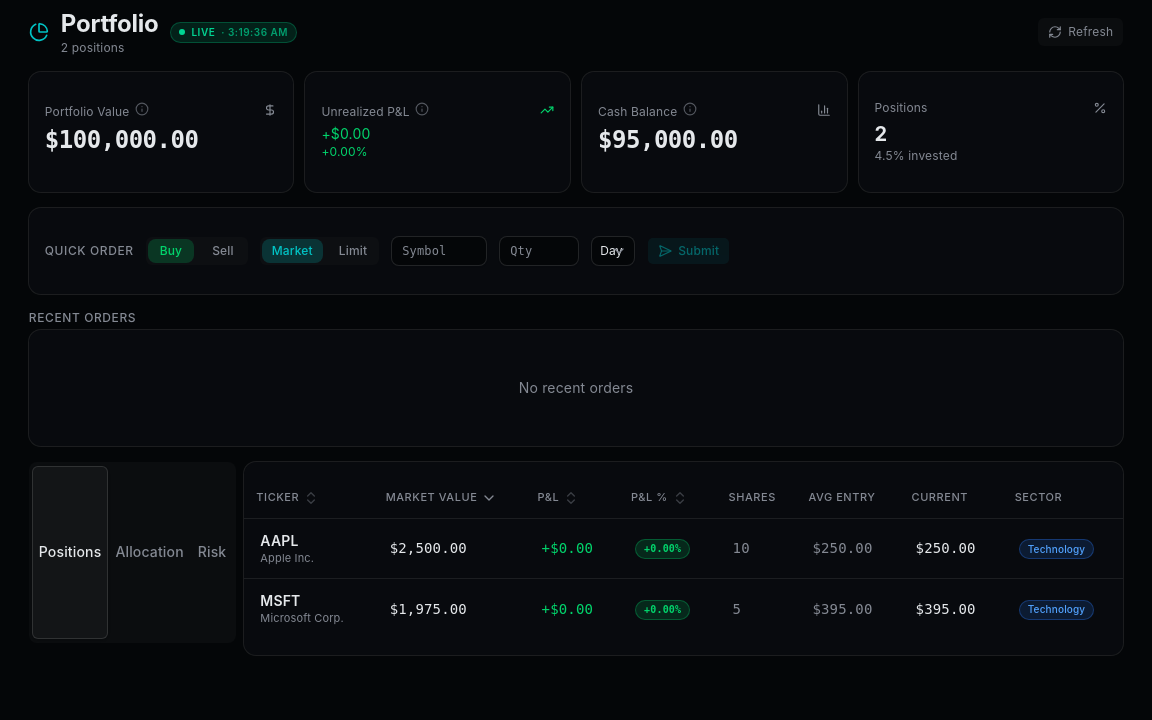
Test: PortfolioPage › displays server error guidance for 503
Check: the text "Quick Order" is shown, box [45,243,134,259]
Type "AAPL" into the field with placeholder "Symbol" at x=439, y=251, box [391,236,487,266]
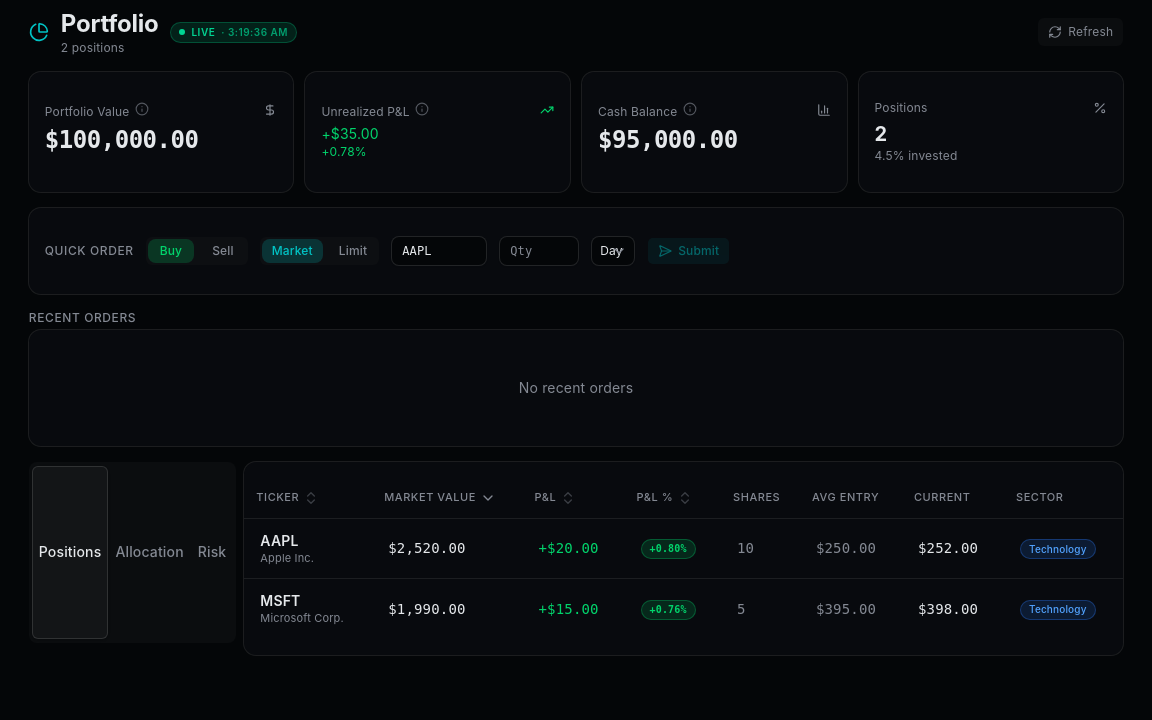
Type "10" into the number field with placeholder "Qty" at x=539, y=251, box [499,236,579,266]
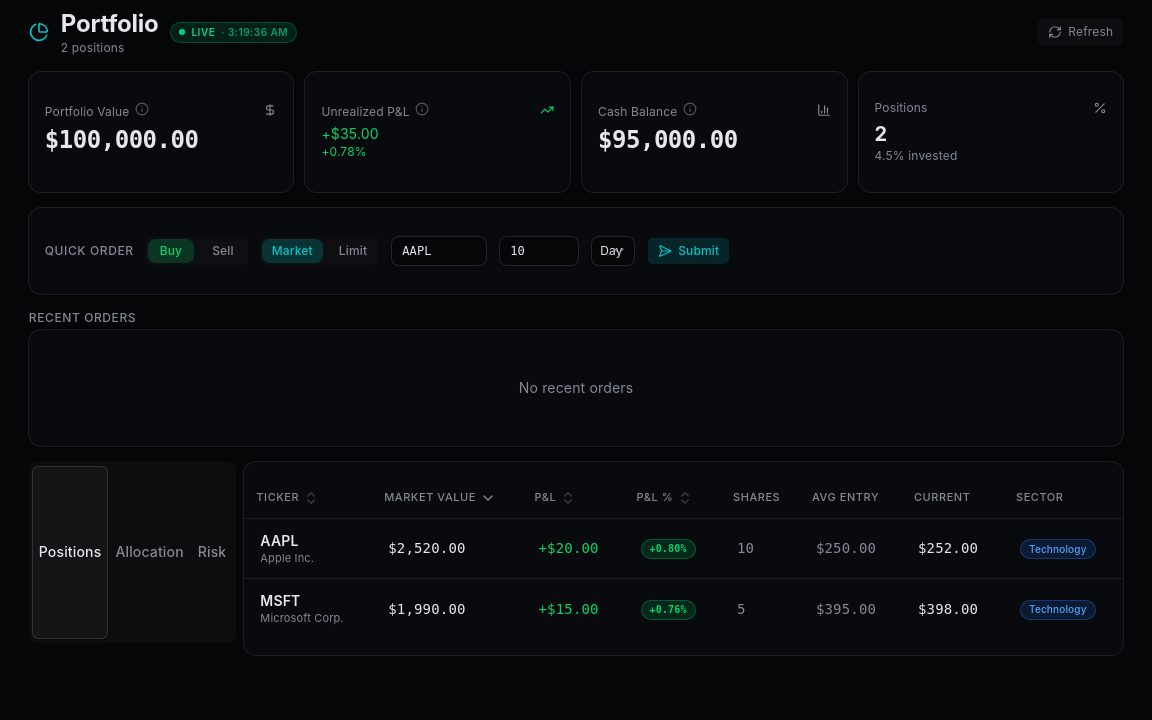
Click the button "Submit" at x=689, y=251, box [647,237,730,265]
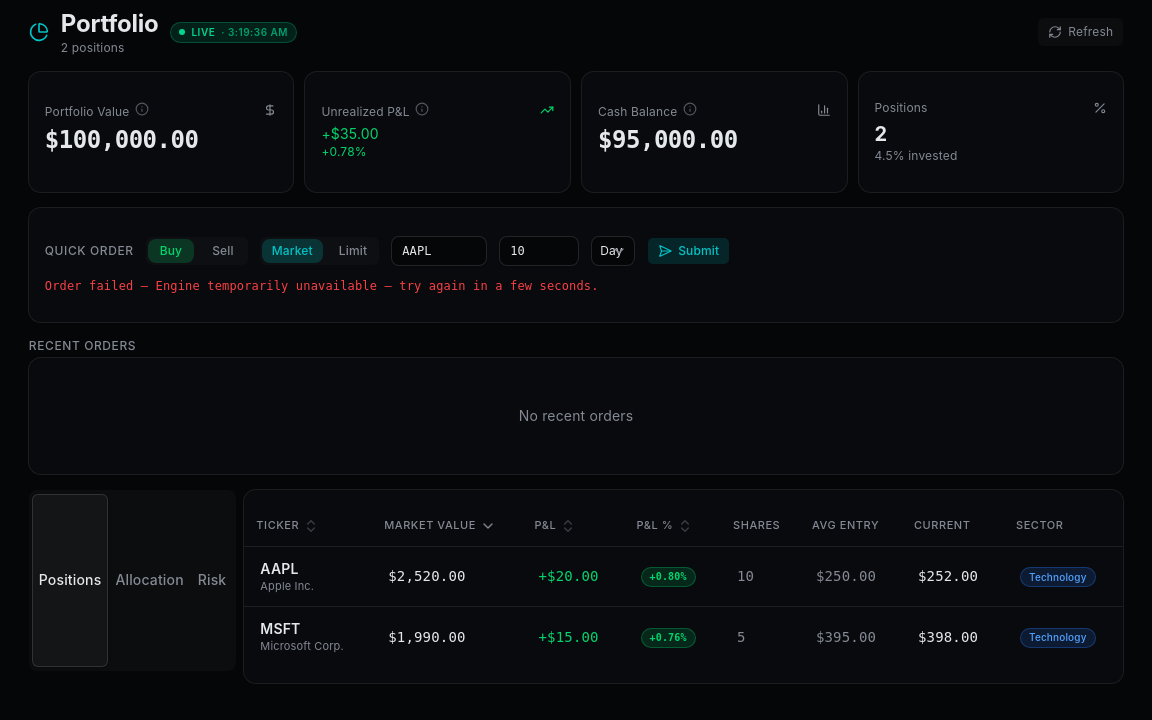
Check: the text "temporarily unavailable" is shown, box [45,279,599,293]
